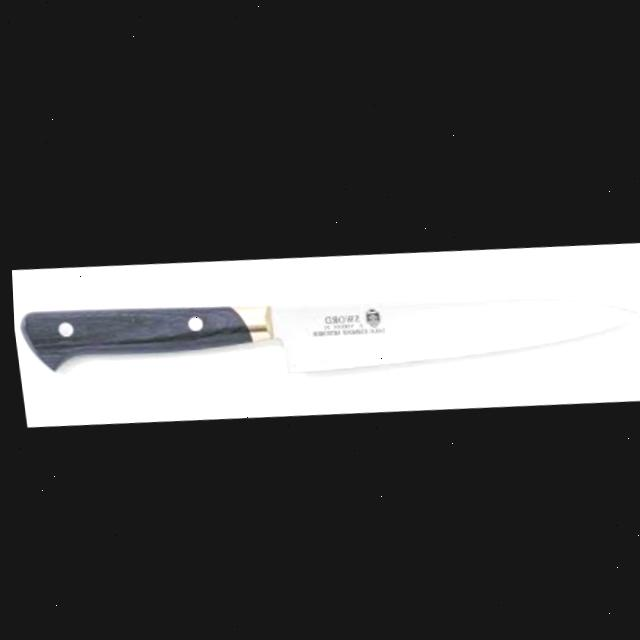Knife: (12, 253, 640, 401)
